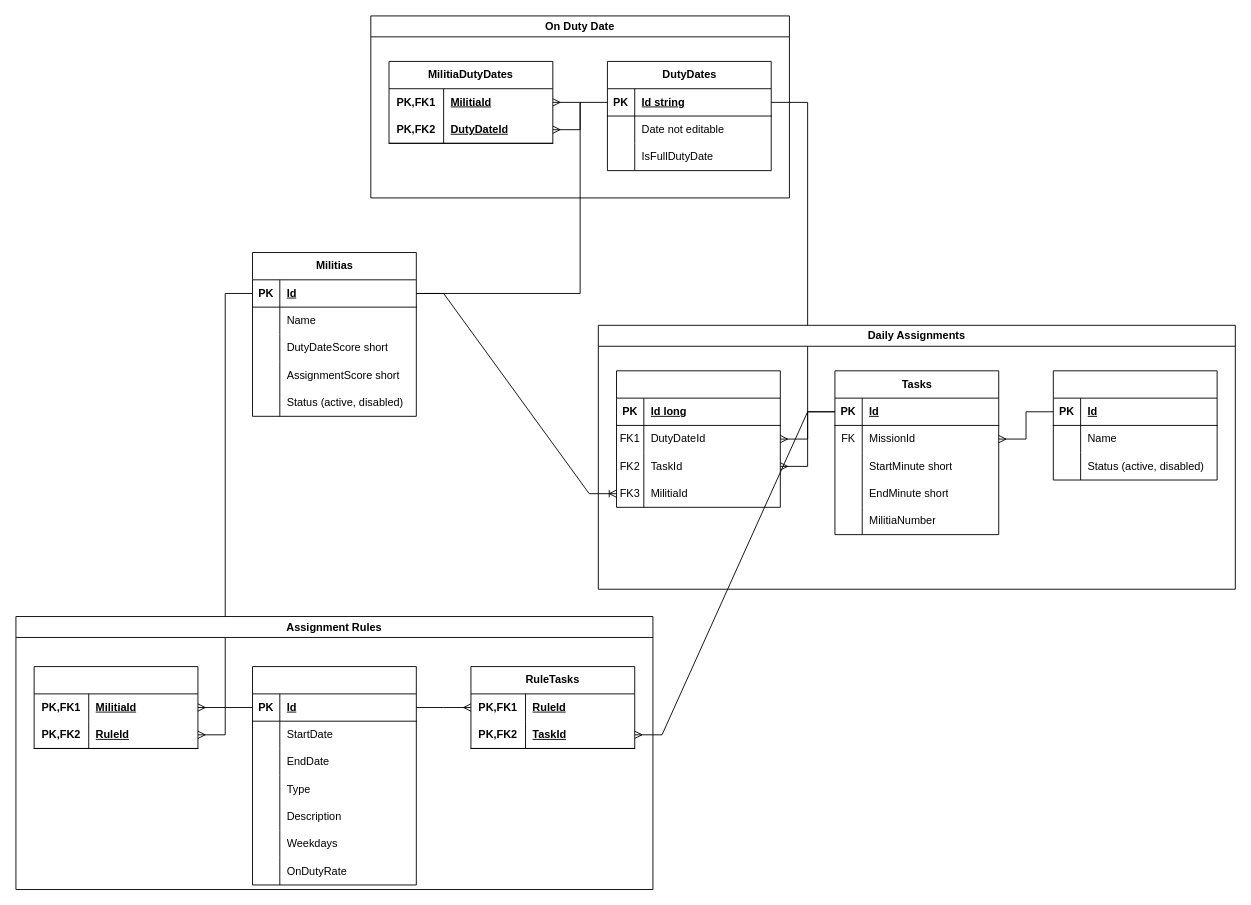
This 1251x905 diagram has some shape labels left out. Each missing label, with the box of its shape:
MilitiaRules: (33, 666, 198, 748)
Missions: (1052, 370, 1217, 480)
Rules: (252, 666, 416, 885)
Shifts: (616, 370, 780, 507)
